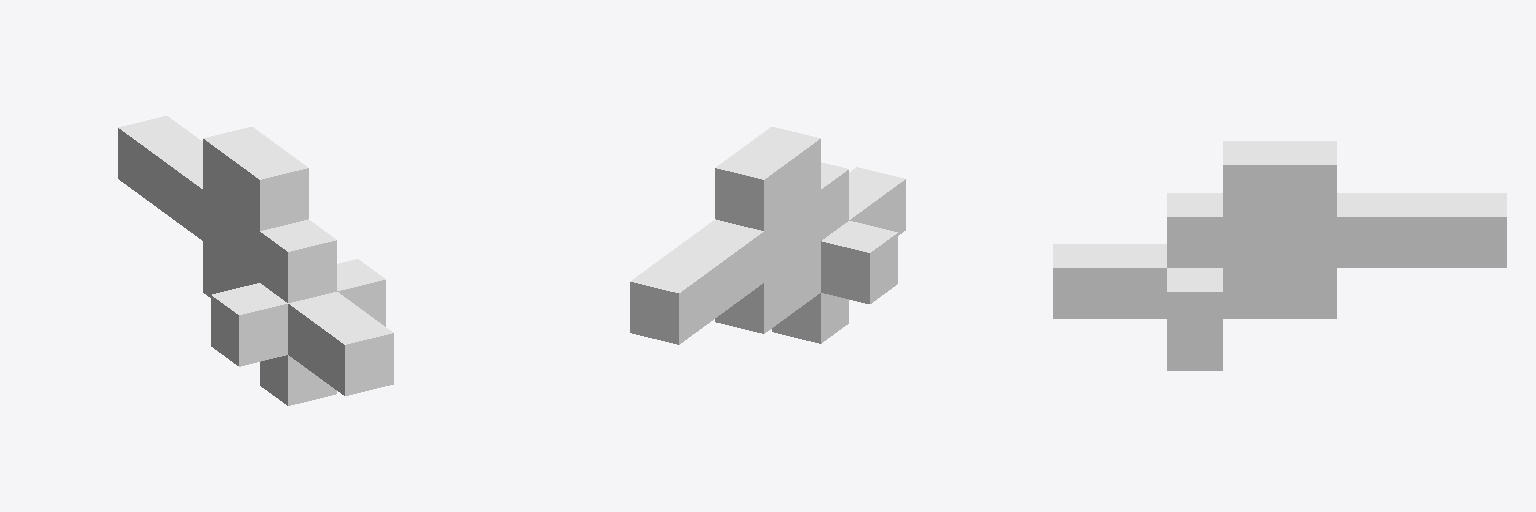
File: Pistol2_with_hand.obj
3 renders of one model, left to right at view 1: azimuth 30°, elevation 25°; view 2: azimuth 150°, elevation 25°; view 3: azimuth 270°, elevation 25°, orthographic.
Bounding box in the file's own units: 3 × 4 × 8.